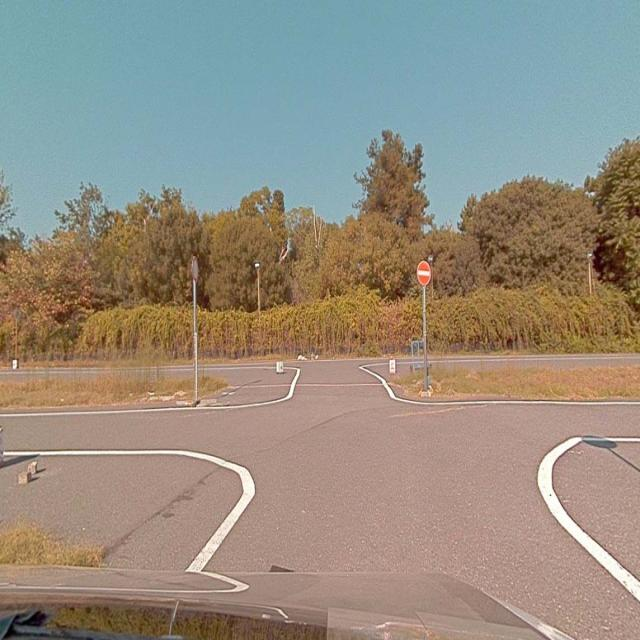girisyok: (417, 260, 431, 284)
